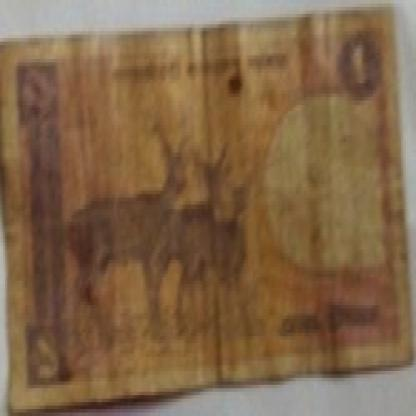One Taka: (29, 326, 68, 385)
